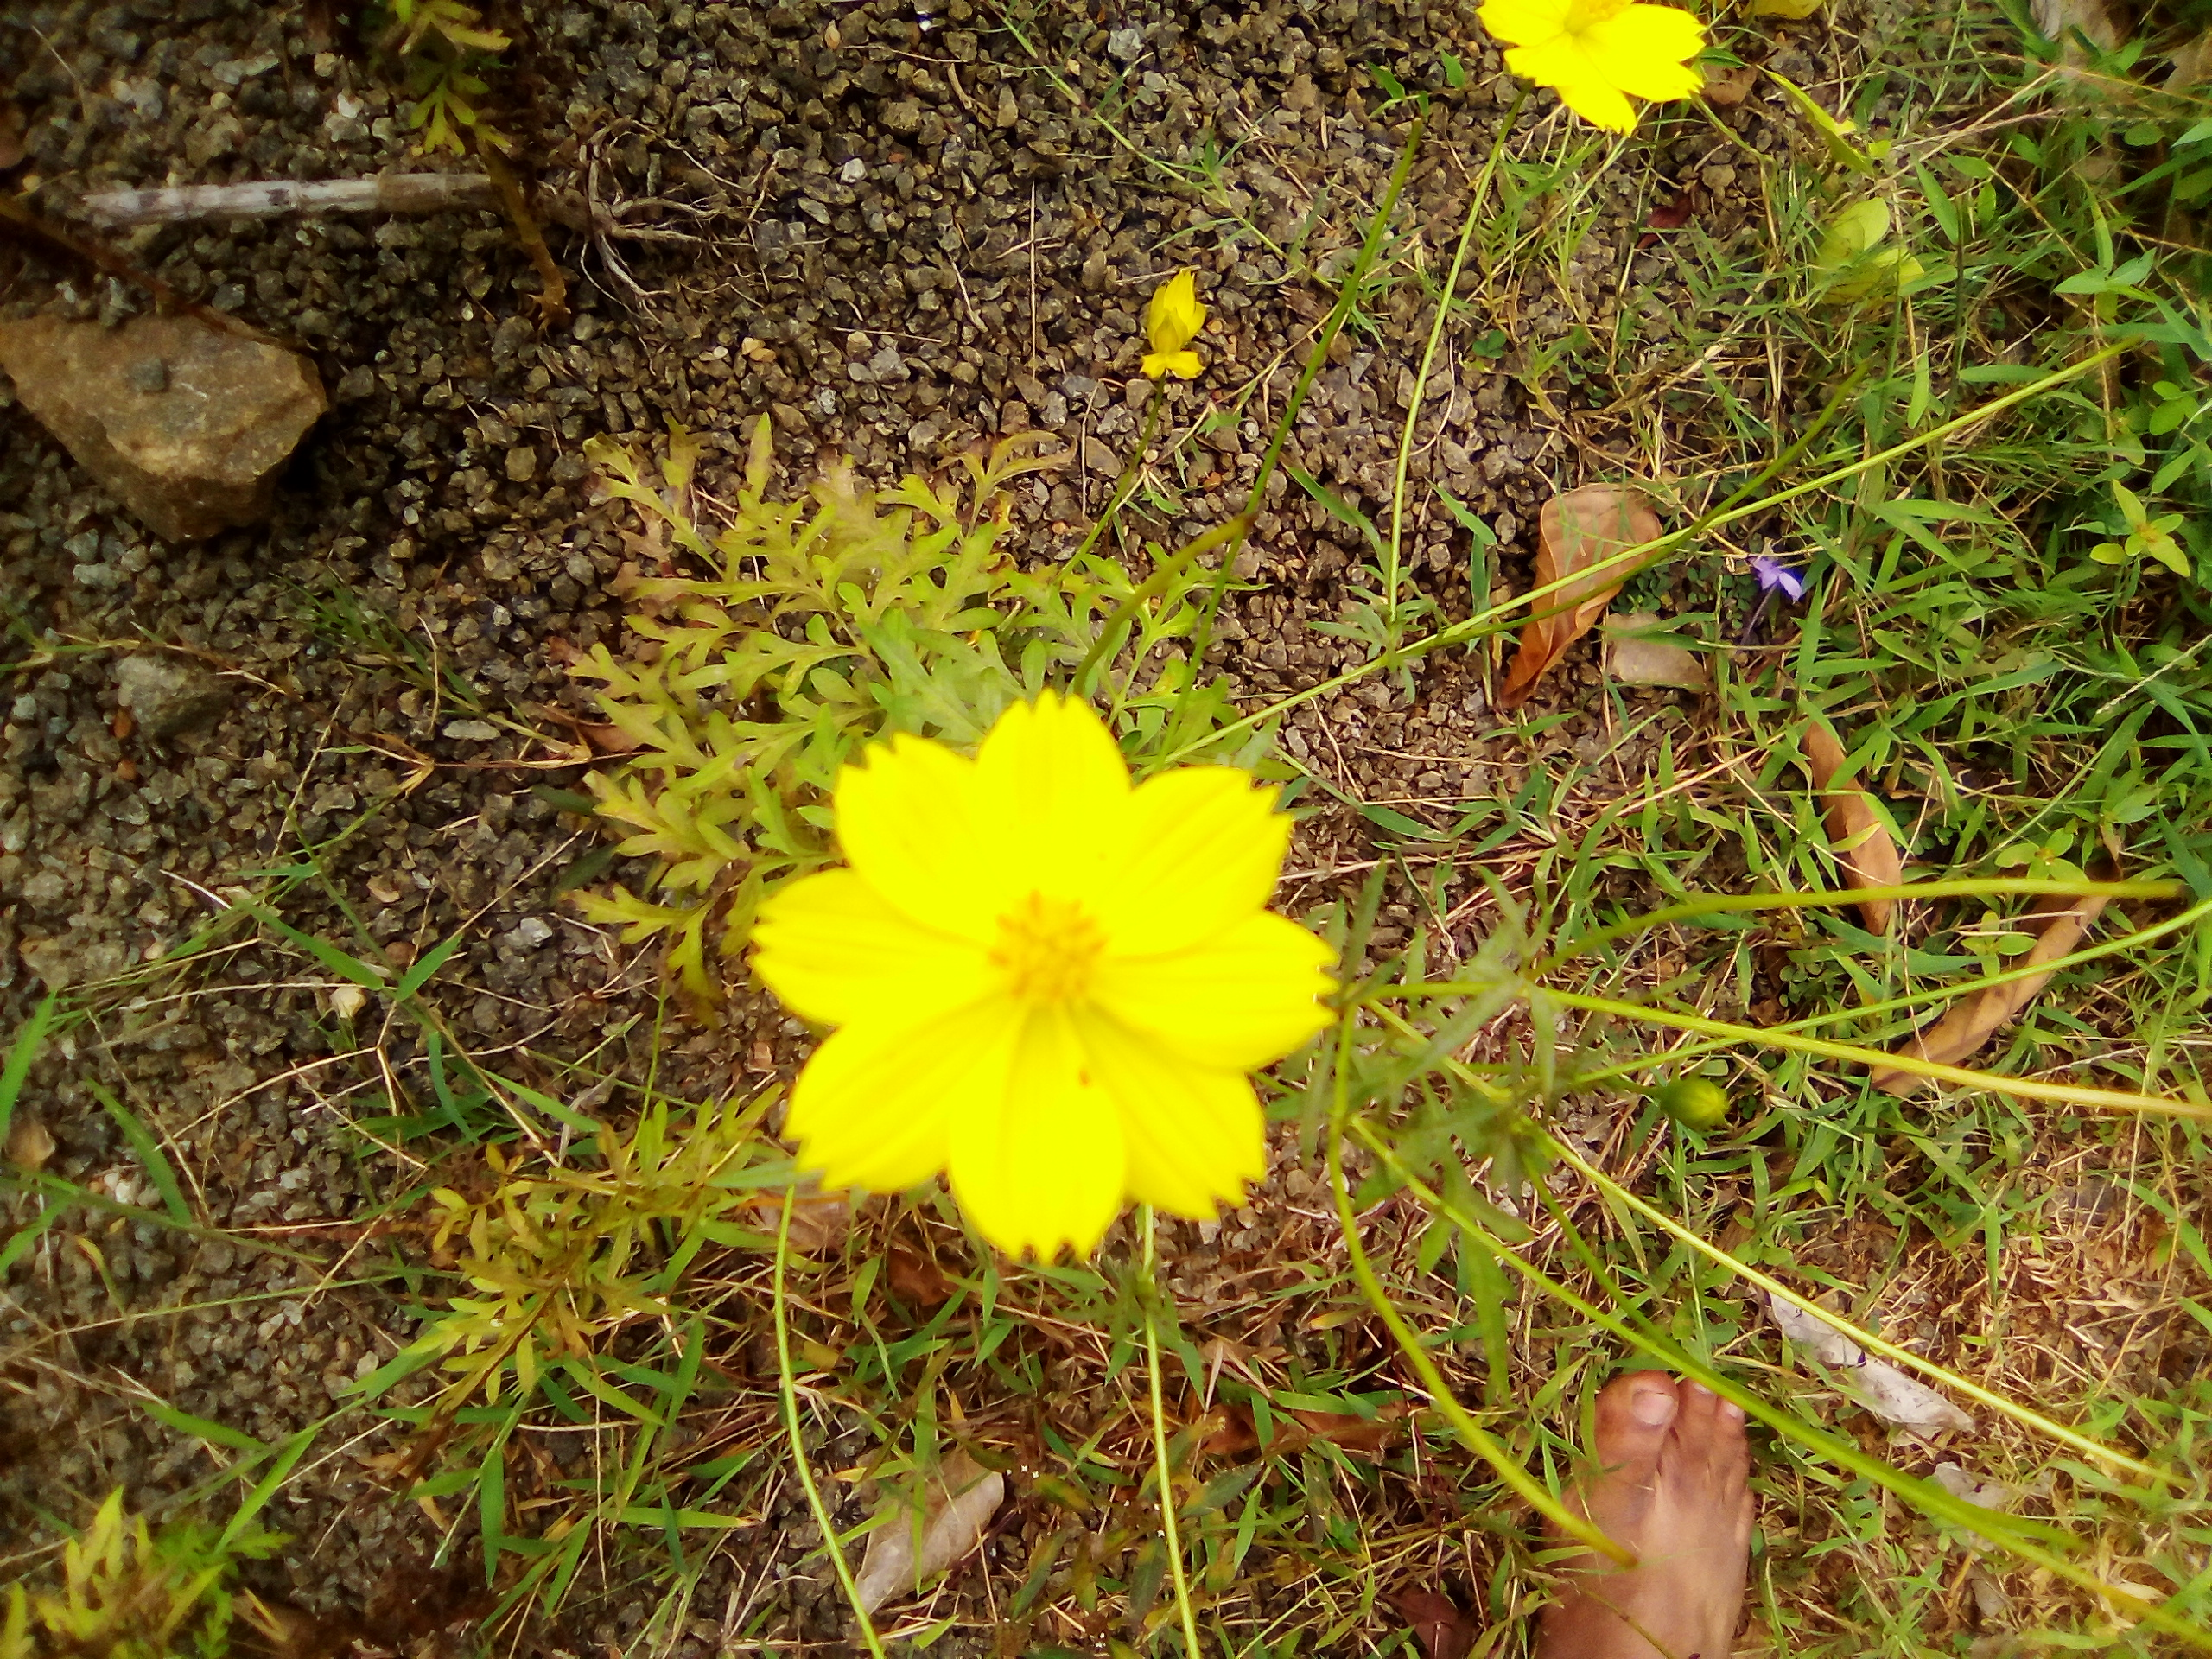kahamala: (728, 702, 1366, 1281), (1454, 0, 1730, 132)
